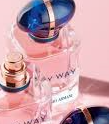armani_my_way_floral: (10, 1, 83, 99), (2, 88, 54, 124), (58, 107, 108, 124)
